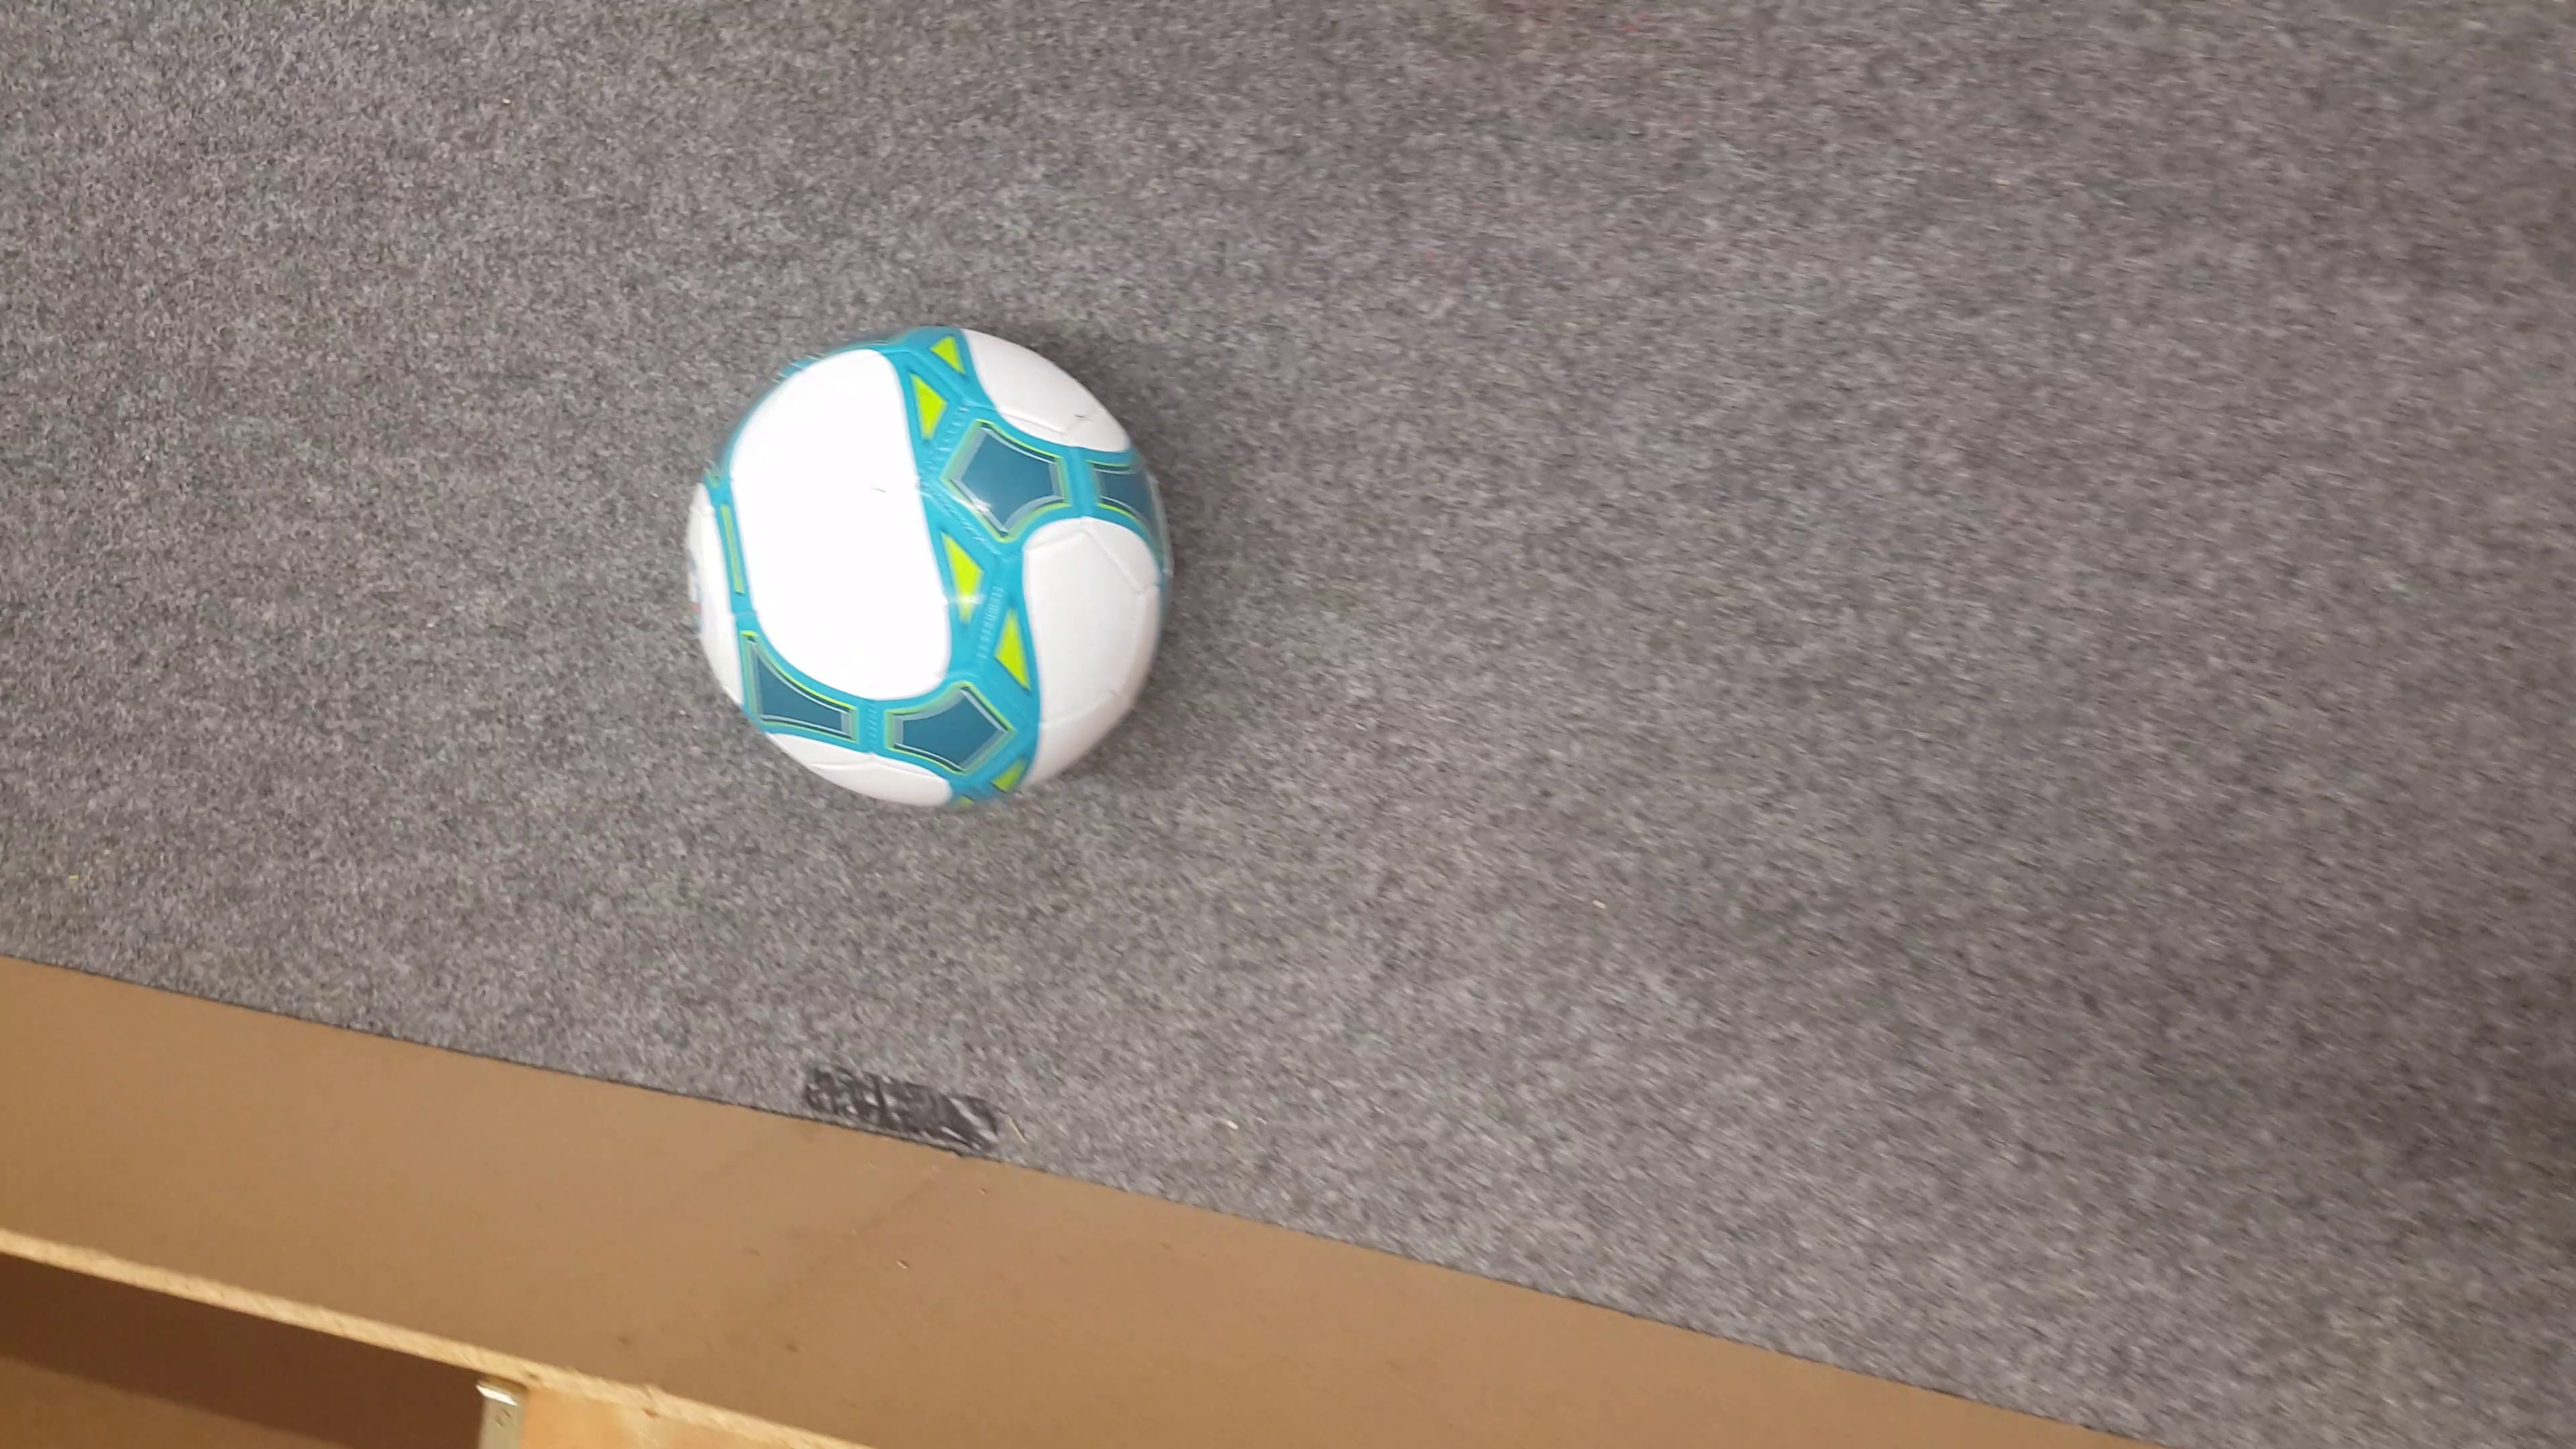kick: (683, 317, 1175, 805)
